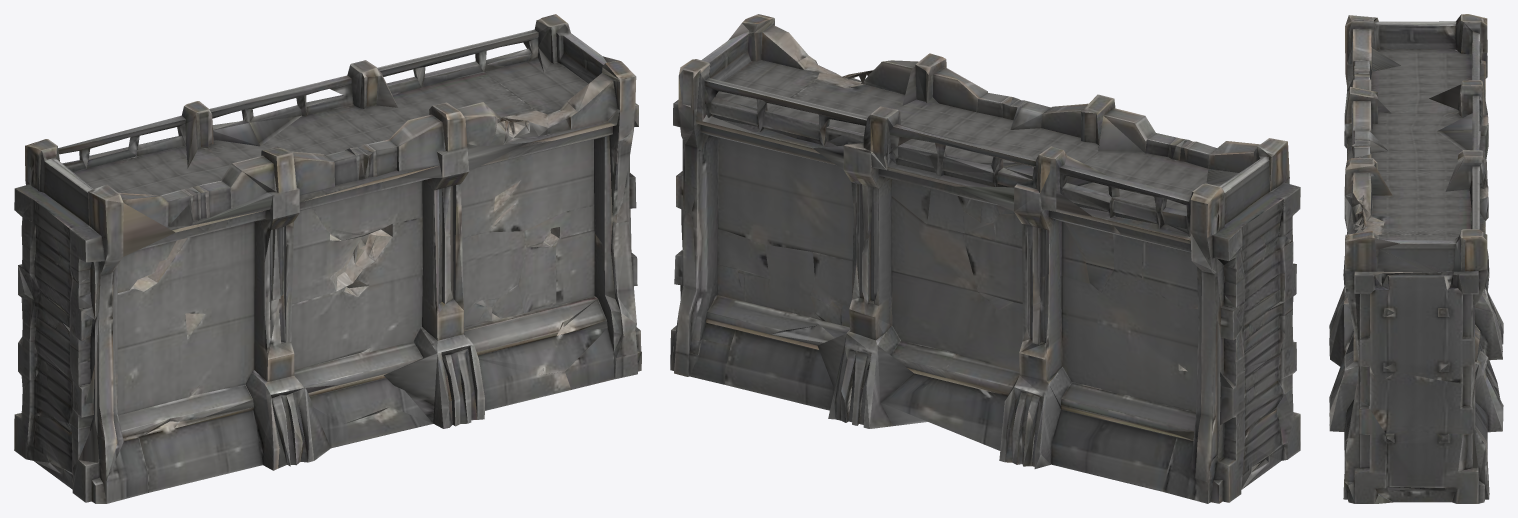
File: imperial_city_wall_straight_damaged_lod1.glb
3 renders of one model, left to right at view 1: azimuth 30°, elevation 25°; view 2: azimuth 150°, elevation 25°; view 3: azimuth 270°, elevation 25°, orthographic. The views are drawn at different scales.
Visible parts, largest first — view 1: mesh_node; view 2: mesh_node; view 3: mesh_node.
Boxes of the visible parts, x1,y1,x2,y2 form: mesh_node: [14, 14, 641, 503]; mesh_node: [670, 14, 1300, 503]; mesh_node: [1329, 14, 1503, 503].
Size of the model in its own units: 11.9 by 6.16 by 3.71.
1 material, 1 textured.
